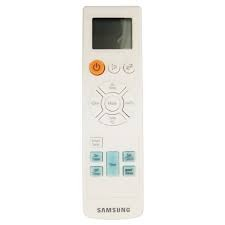remote control: (82, 5, 148, 218)
